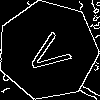V: (23, 26, 80, 80)
